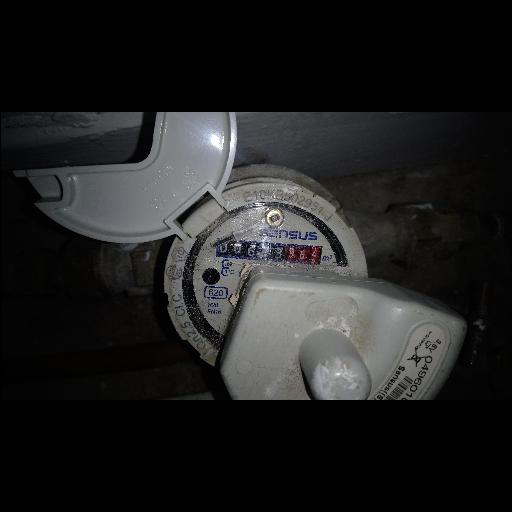0: (231, 241, 246, 257), (218, 241, 233, 256)
2: (308, 246, 322, 267)
3: (269, 245, 285, 261)
6: (244, 243, 258, 259), (297, 248, 310, 263)
7: (258, 244, 271, 260)
9: (283, 247, 298, 262)
border_water_meter_number: (214, 238, 322, 271)
